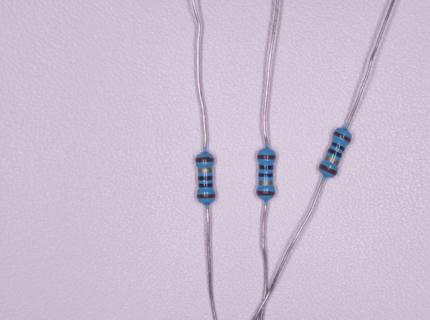Black band: (327, 148, 342, 158), (331, 142, 345, 152), (198, 176, 213, 181), (198, 183, 213, 187), (259, 173, 273, 177), (259, 165, 273, 169)
Brown band: (319, 163, 337, 176), (333, 131, 351, 143), (196, 157, 214, 162), (257, 155, 275, 160), (257, 191, 275, 196), (197, 194, 215, 198)
Gold band: (325, 156, 339, 167), (198, 168, 212, 173), (259, 181, 273, 185)
